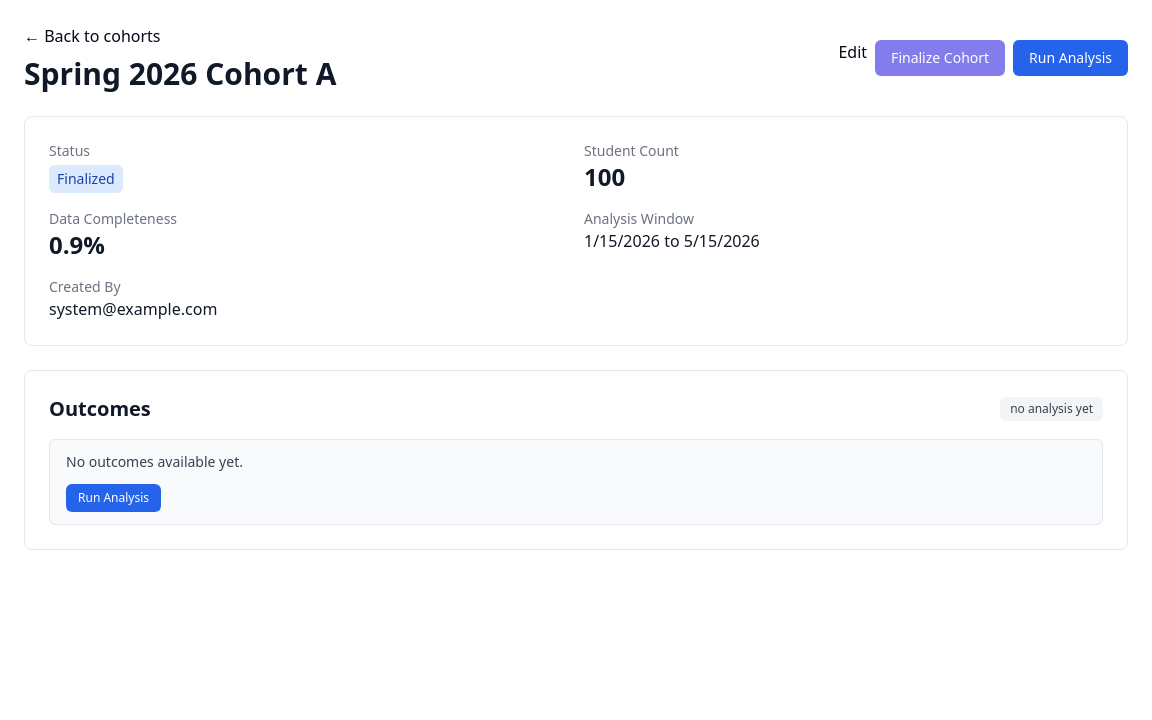
Test: CohortDetailPage › shows queued notice after successful analysis handoff
Click the button "Run Analysis" in the row of "Edit". click: (1071,58)
box: [1013,40,1128,76]
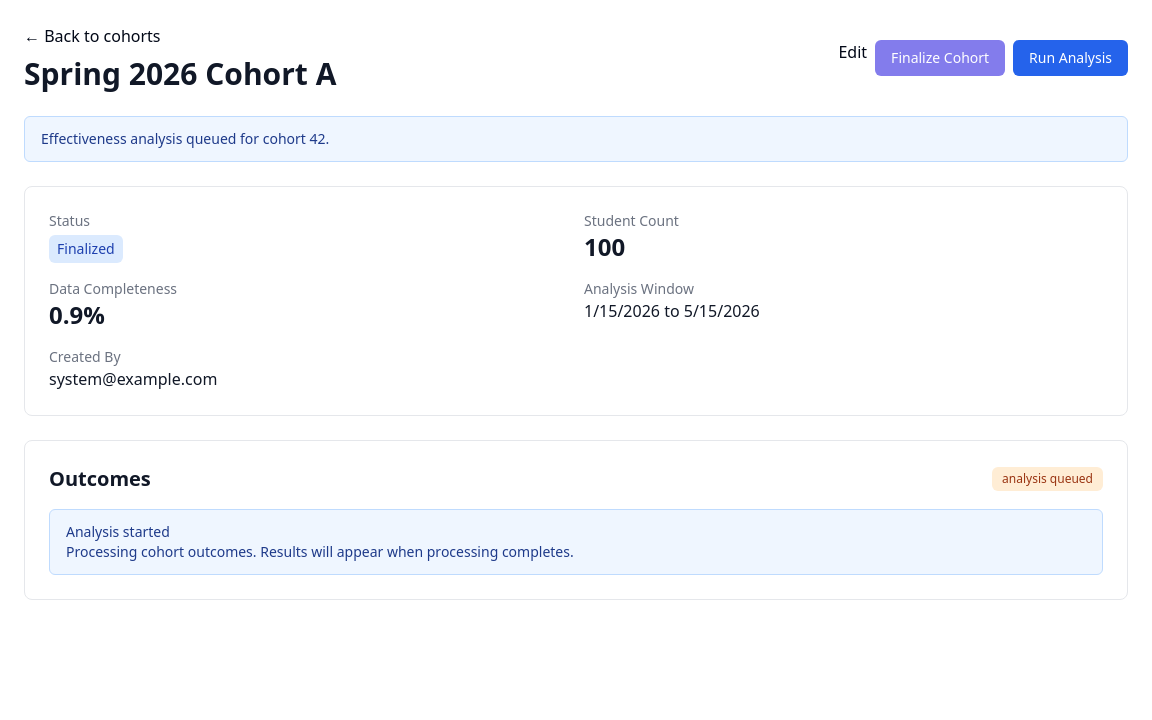
Expected: the text "Effectiveness analysis queued for cohort 42." is shown, [24,116,1128,162]
Expected: the text "Analysis started" is shown, [66,522,170,541]
